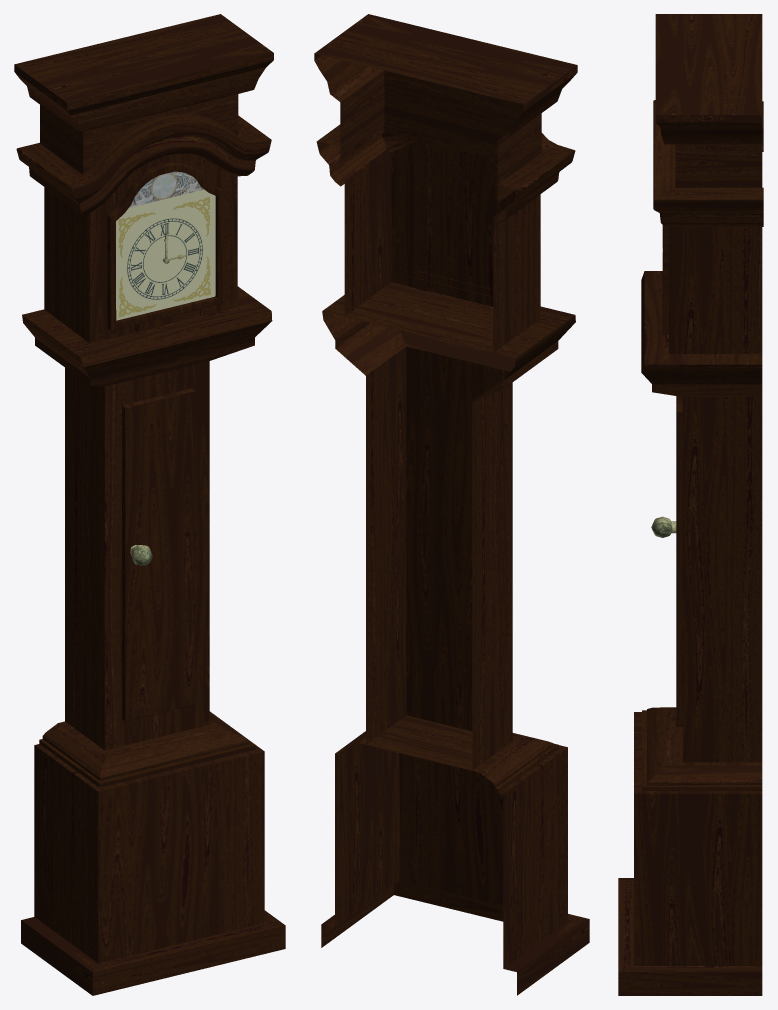
File: clock.fbx
3 renders of one model, left to right at view 1: azimuth 30°, elevation 25°; view 2: azimuth 150°, elevation 25°; view 3: azimuth 270°, elevation 25°, orthographic.
Visible parts, largest first — view 1: stand, body, door, topper, head, clockFace, curved, headCurve; view 2: body, stand, head, topper, curved; view 3: body, stand, topper, head, curved, door, headCurve, handle.
Part boxes in pixels (x1,y1,x2,y2): stand: [21, 711, 285, 995]; body: [22, 286, 272, 750]; door: [122, 388, 194, 721]; topper: [14, 14, 273, 174]; head: [44, 153, 237, 343]; clockFace: [116, 171, 215, 320]; curved: [16, 113, 271, 215]; headCurve: [107, 162, 223, 330]; body: [322, 282, 575, 770]; stand: [321, 715, 589, 995]; head: [344, 138, 540, 352]; topper: [314, 14, 577, 202]; curved: [316, 90, 575, 223]; body: [641, 271, 762, 762]; stand: [618, 707, 762, 995]; topper: [655, 14, 762, 187]; head: [669, 226, 762, 353]; curved: [653, 100, 763, 226]; door: [676, 396, 682, 726]; headCurve: [662, 225, 669, 334]; handle: [651, 516, 676, 537].
Size of the model in its own units: 40.93 by 167 by 24.83.
